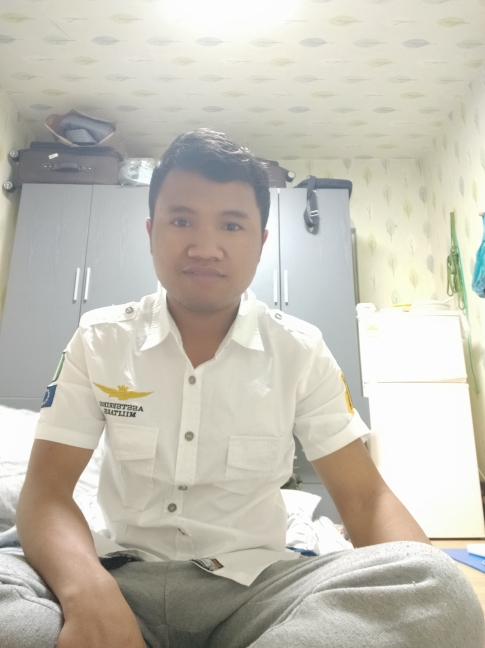shirts: (48, 288, 363, 583)
